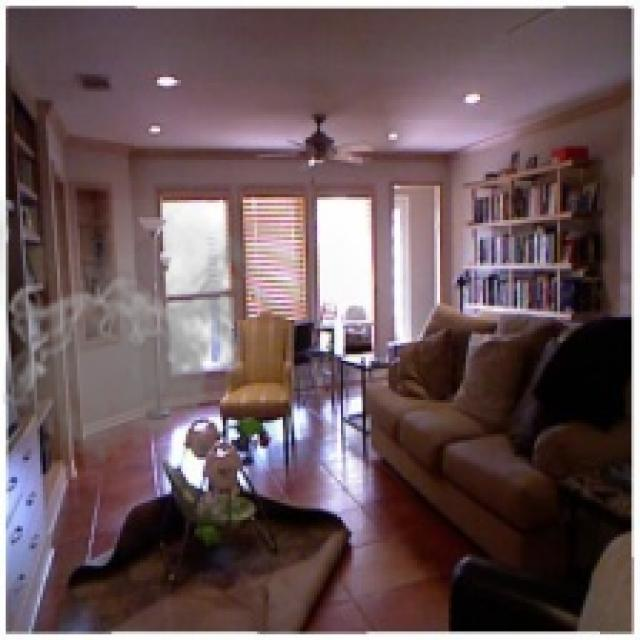Smoke: (0, 200, 257, 480)
